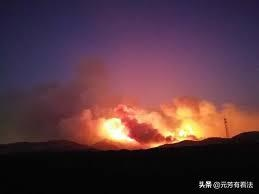fire: (94, 99, 216, 147)
